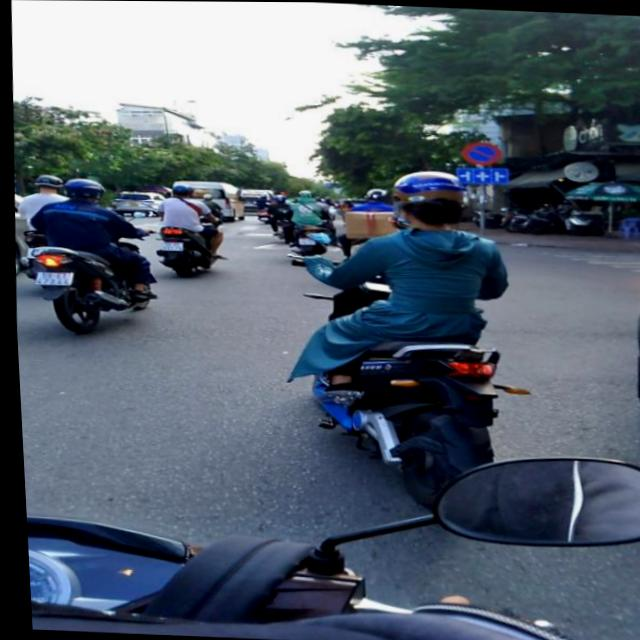Cam do xe: (458, 140, 500, 165)
